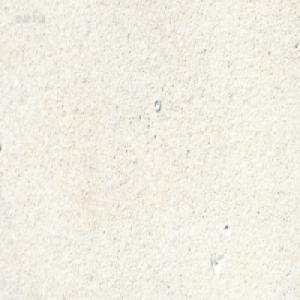Washer: (153, 97, 160, 112)
